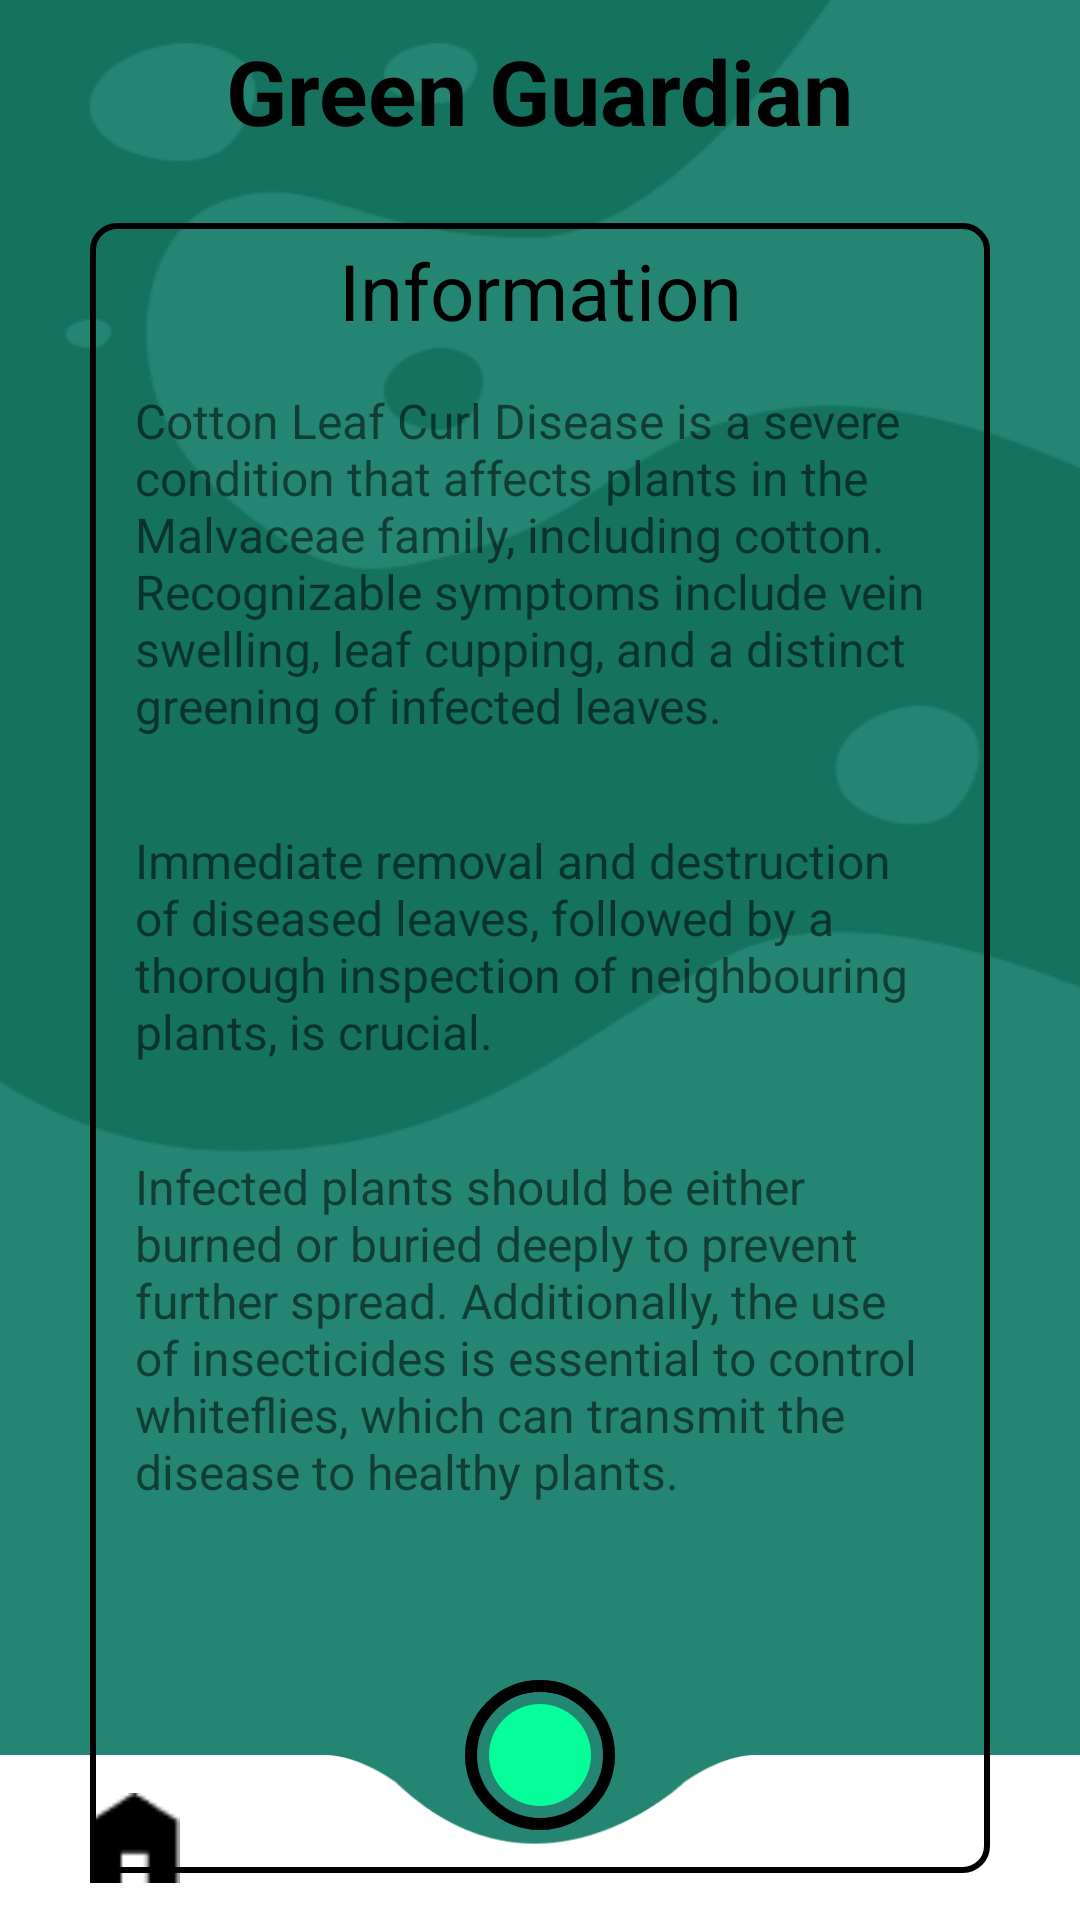

Icons on this 1080 x 1920 Android screen, each with the point to tap as (x=x, y=y):
takephoto: (x=540, y=1755)
